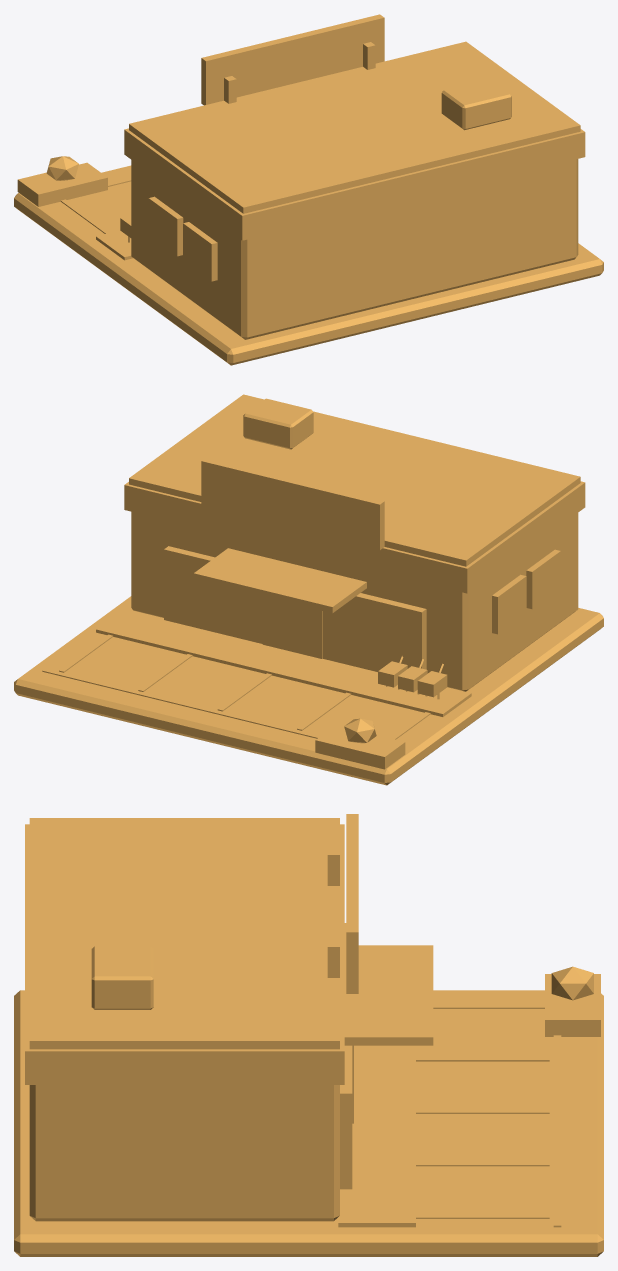
3 renders of one model, top to bottom at view 1: azimuth 30°, elevation 25°; view 2: azimuth 150°, elevation 25°; view 3: azimuth 270°, elevation 25°, orthographic. The views are drawn at different scales.
Parts seen in each view (by area): view 1: corpo; view 2: corpo; view 3: corpo.
Boxes of the visible parts, x1,y1,x2,y2 form: corpo: (14,14,603,365); corpo: (14,394,603,785); corpo: (14,814,603,1256).
Size of the model in its own units: 1.9 by 0.93 by 1.9.
